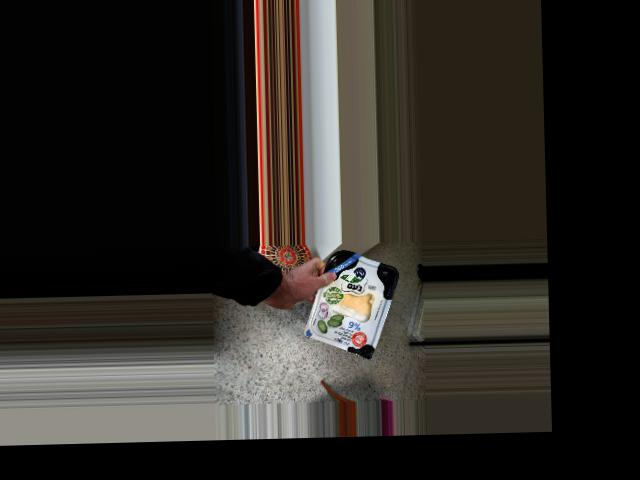cheese: (313, 260, 388, 349)
